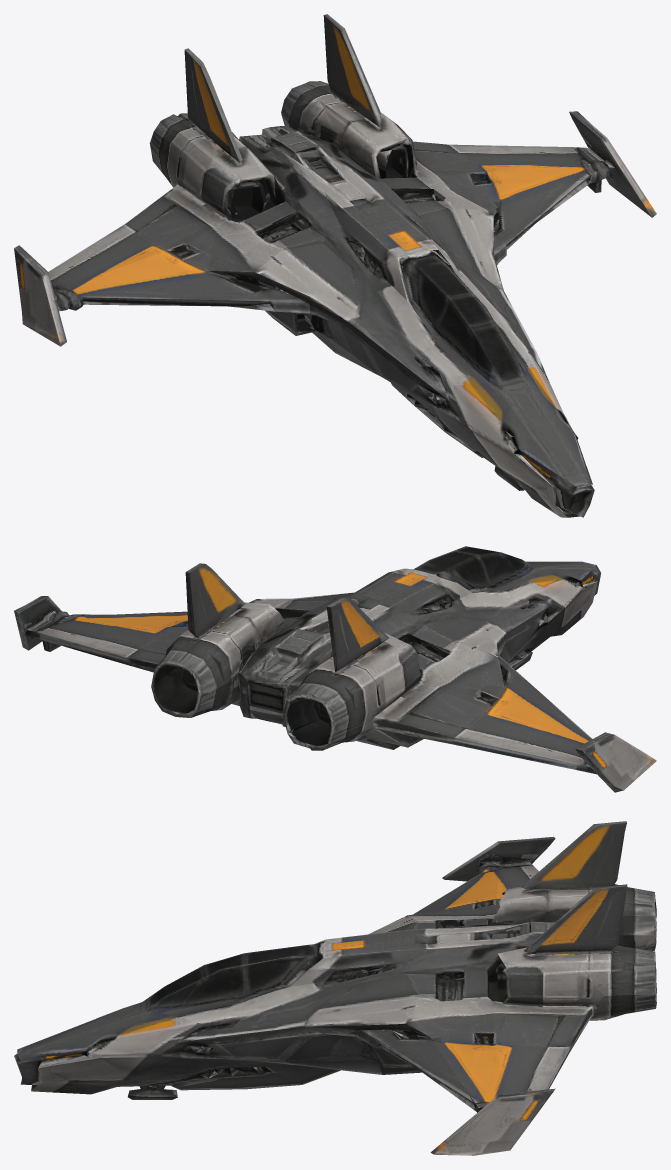
The model's file is hard-2000.glb.
3 views of the same model, one above another, from view 1: azimuth 30°, elevation 25°; view 2: azimuth 150°, elevation 25°; view 3: azimuth 270°, elevation 25° (orthographic). The views are drawn at different scales.
Visible parts, largest first — view 1: Low; view 2: Low; view 3: Low.
Boxes of the visible parts, left/top/right/bottom form: Low: left=14, top=14, right=656, bottom=517; Low: left=14, top=546, right=656, bottom=792; Low: left=14, top=821, right=656, bottom=1155.
Bounding box in the file's own units: 0.9784 × 0.414 × 0.983.
1 material, 1 textured.
